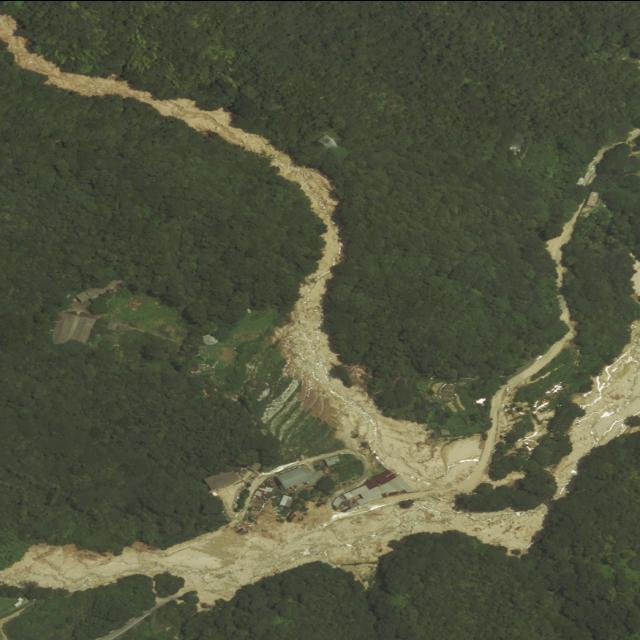landslide: (0, 13, 576, 608), (551, 322, 640, 499), (547, 203, 584, 286)
